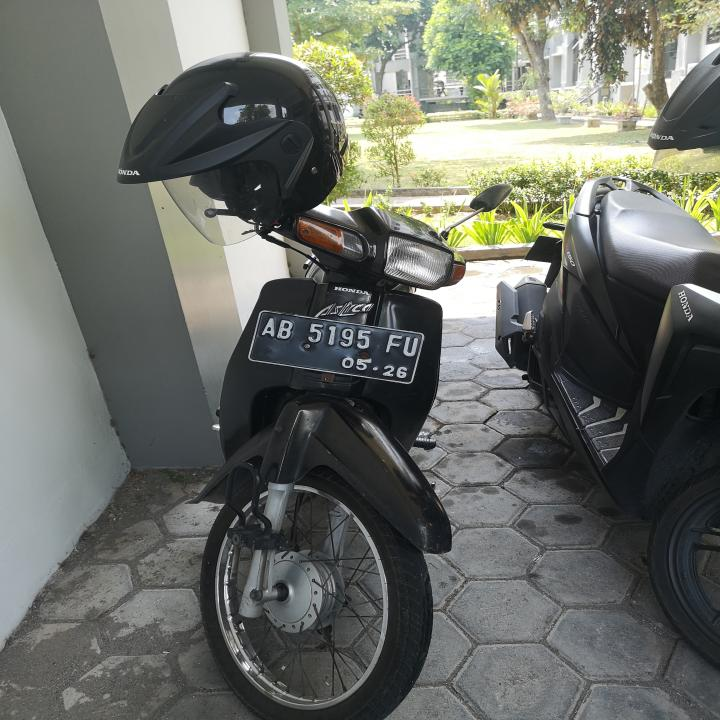plate: (249, 305, 424, 389)
